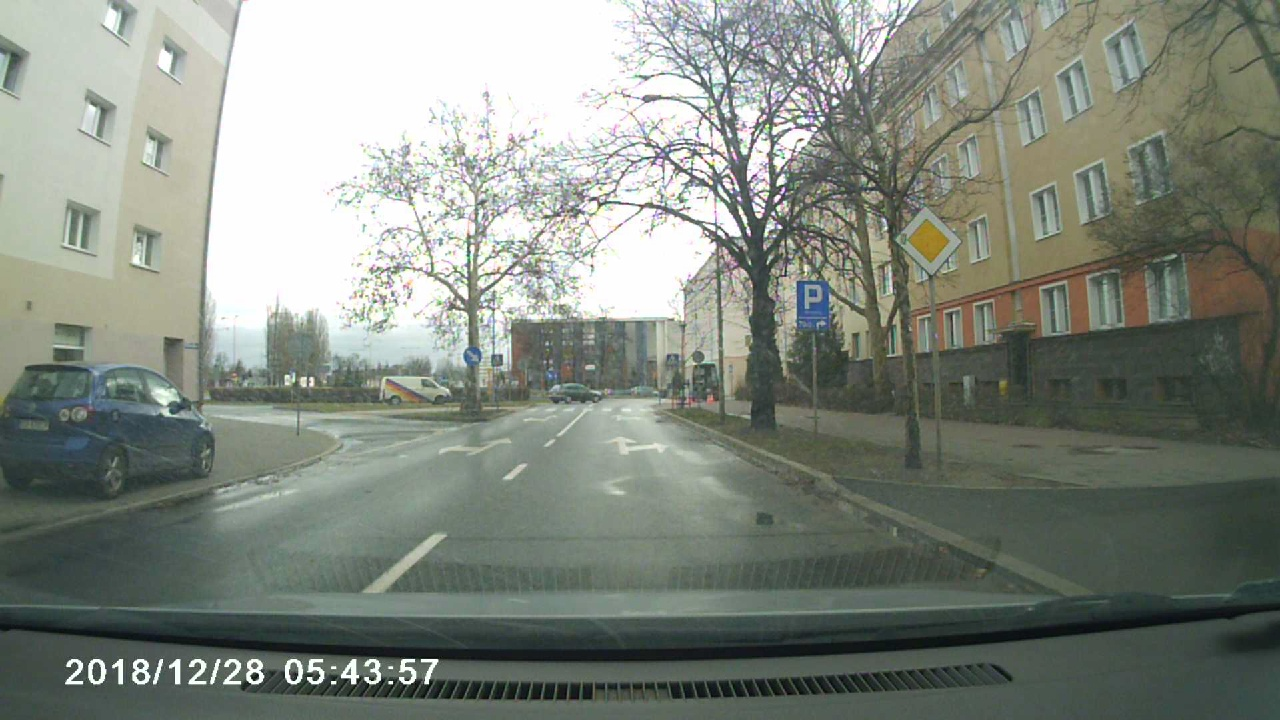D1: (892, 202, 966, 275)
D18: (794, 283, 831, 318)
